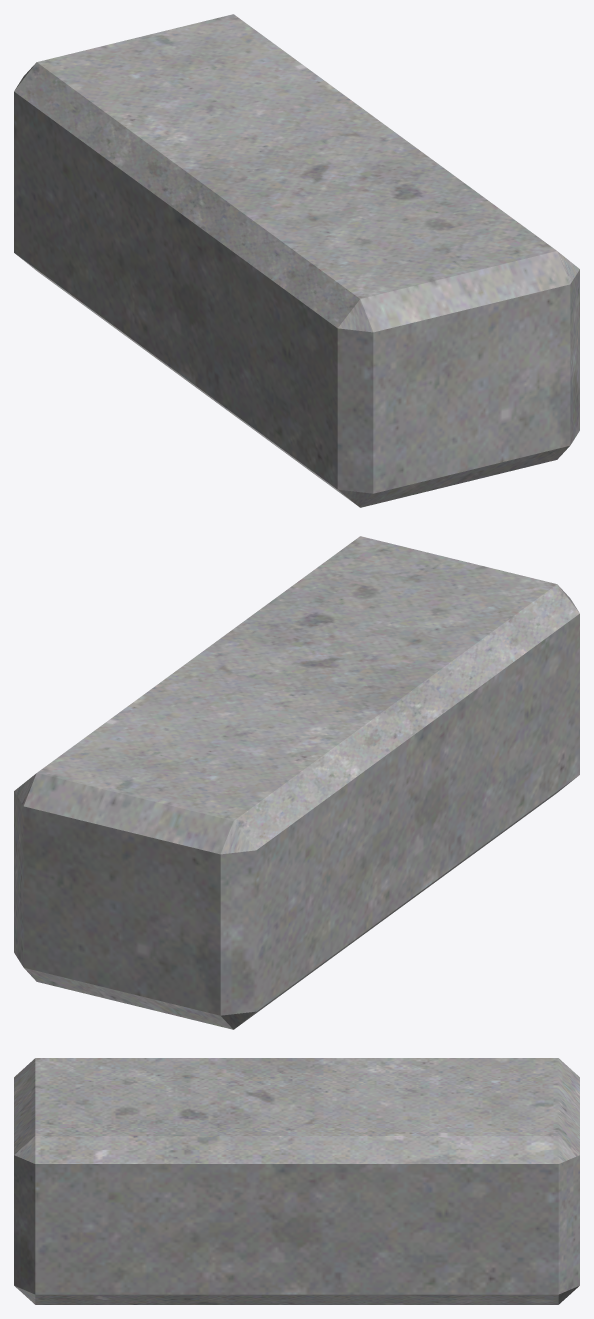
Rendered from OnimasuPlanetRailMovePartsA.dae.
The picture shows the model from 3 angles, top to bottom: view 1: azimuth 30°, elevation 25°; view 2: azimuth 150°, elevation 25°; view 3: azimuth 270°, elevation 25°; orthographic projection. The views are drawn at different scales.
Parts seen in each view (by area): view 1: m0; view 2: m0; view 3: m0.
Part boxes in pixels (bbox=[...]): m0: bbox=[14, 14, 579, 507]; m0: bbox=[14, 536, 579, 1029]; m0: bbox=[14, 1058, 579, 1304].
Size of the model in its own units: 320 by 263 by 800.
Materials: 1 (1 with a texture image).
